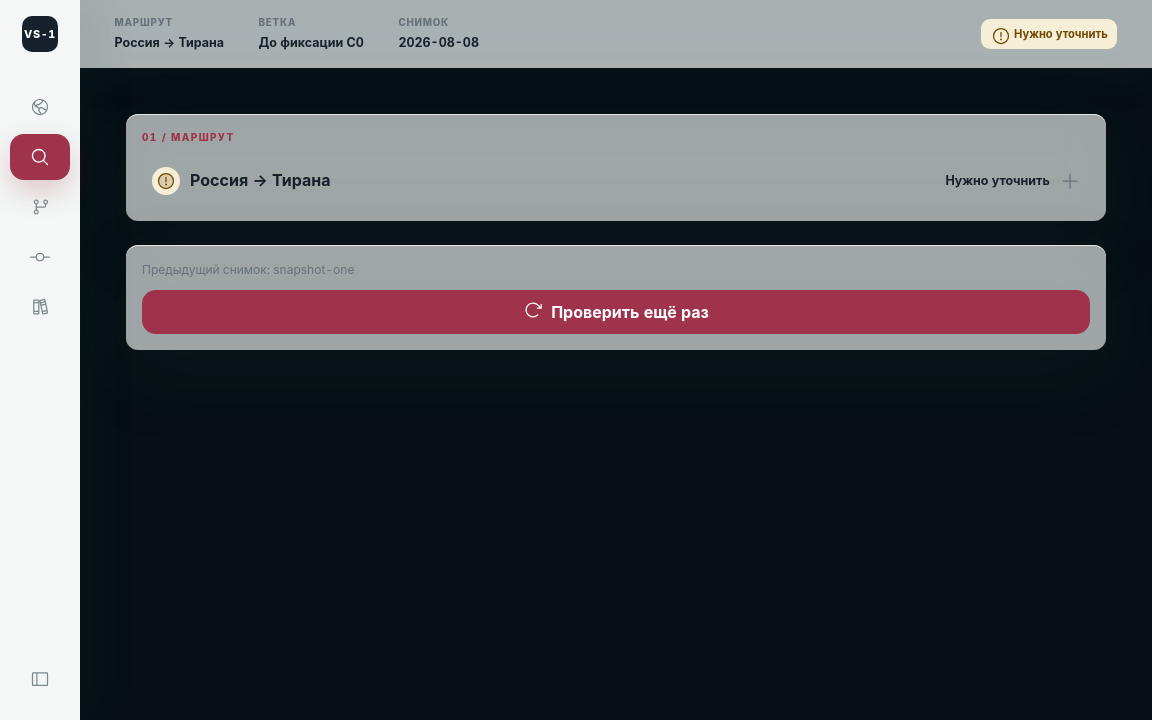
it: confirmed-life visual journey › renders the scoped journey from a JSON-serializable RunDetails value only
Expected: the button "Россия → Тирана Нужно уточнить" is shown, top-left (142, 157), bottom-right (1090, 205)
Step 1. Click the button named "обзор" → coordinates (40, 107), box top-left (10, 84), bottom-right (70, 130)
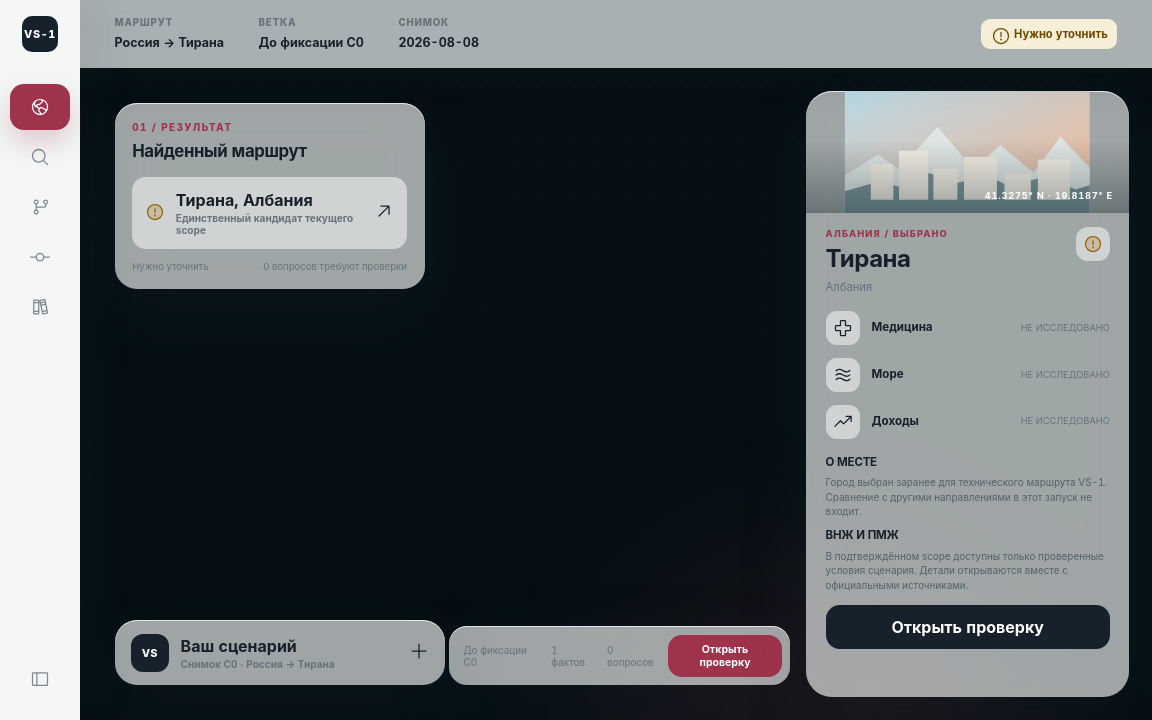
Step 2. Click the button named "моя ветвь" → coordinates (40, 207), box top-left (10, 184), bottom-right (70, 230)
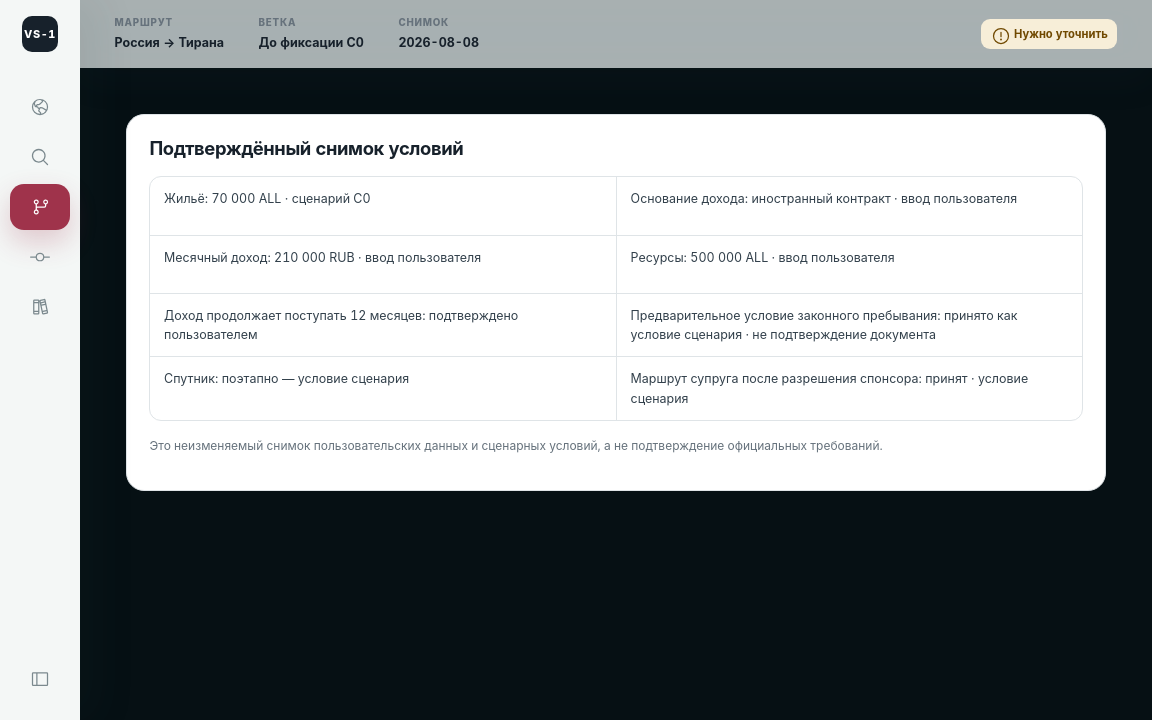
Expected: the heading "Подтверждённый снимок условий" is shown, top-left (150, 138), bottom-right (463, 160)
Expected: the list item "Месячный доход: 210 000 RUB · ввод пользователя" is shown, top-left (150, 234), bottom-right (616, 292)
Step 3. Click the button named "источники" → coordinates (40, 307), box top-left (10, 284), bottom-right (70, 330)
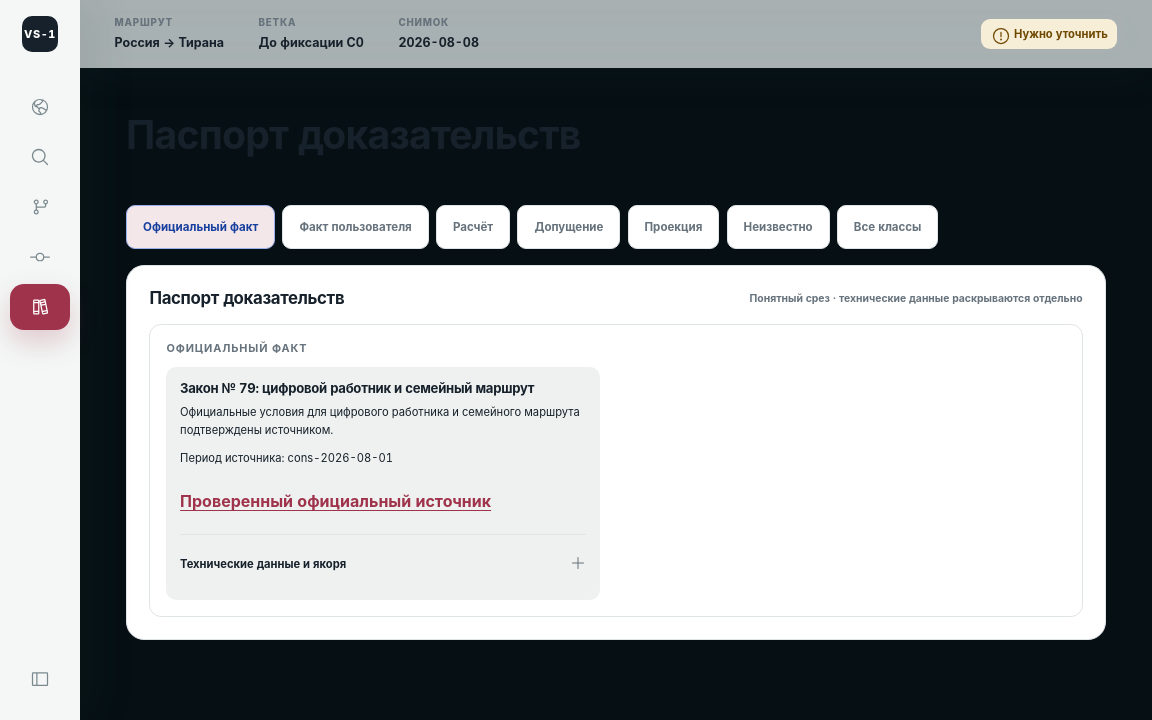
Expected: the heading "Паспорт доказательств" is shown, top-left (126, 111), bottom-right (581, 158)
